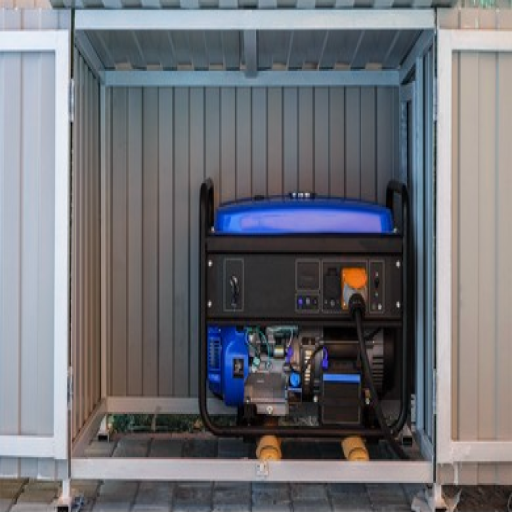portable_generator: (198, 177, 412, 438)
